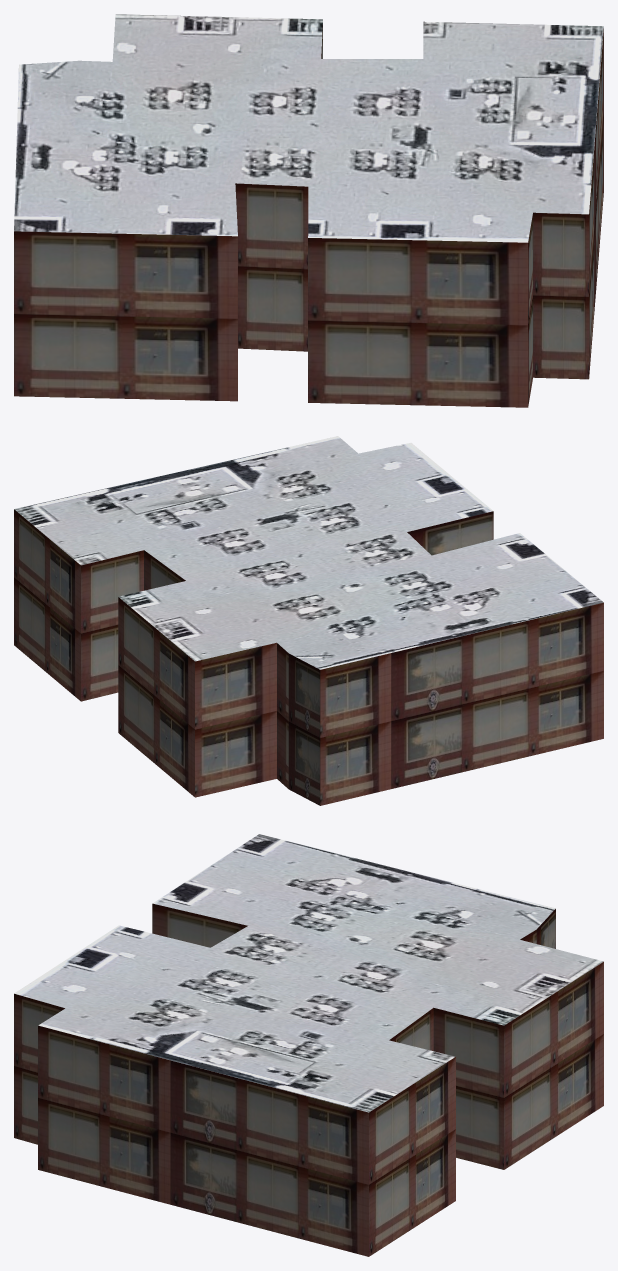
Rendered from ResTex__796.fbx.
3 views of the same model, one above another, from view 1: azimuth 30°, elevation 25°; view 2: azimuth 150°, elevation 25°; view 3: azimuth 270°, elevation 25° (orthographic). The views are drawn at different scales.
Parts seen in each view (by area): view 1: CityEngineMaterial_8_m, CityEngineMaterial_13_m; view 2: CityEngineMaterial_13_m, CityEngineMaterial_8_m; view 3: CityEngineMaterial_13_m, CityEngineMaterial_8_m.
Boxes of the visible parts, x1=… form: CityEngineMaterial_8_m: x1=14, y1=14, x2=603, y2=242; CityEngineMaterial_13_m: x1=14, y1=25, x2=603, y2=407; CityEngineMaterial_13_m: x1=14, y1=509, x2=603, y2=805; CityEngineMaterial_8_m: x1=14, y1=436, x2=603, y2=669; CityEngineMaterial_13_m: x1=14, y1=903, x2=603, y2=1256; CityEngineMaterial_8_m: x1=14, y1=834, x2=603, y2=1112.
Size of the model in its own units: 24.83 by 6 by 22.22.
Materials: 2 (2 with a texture image).
